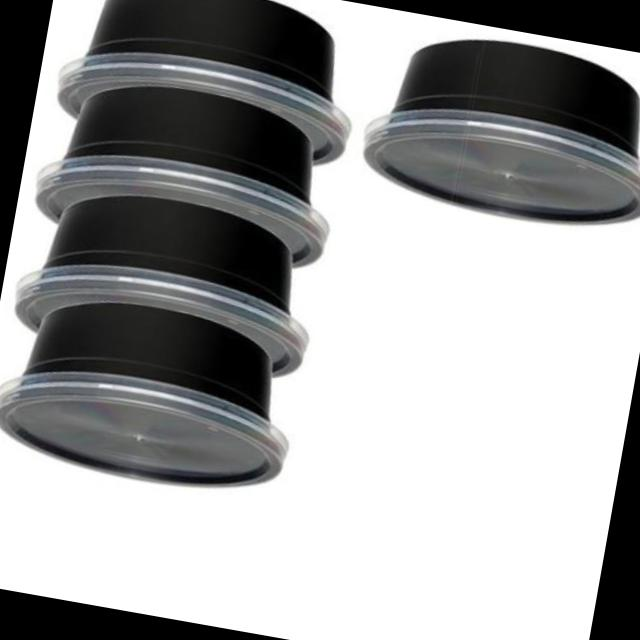plastic_box: (0, 242, 301, 511), (6, 170, 332, 379), (34, 47, 348, 263), (341, 31, 640, 251), (45, 0, 380, 171)
